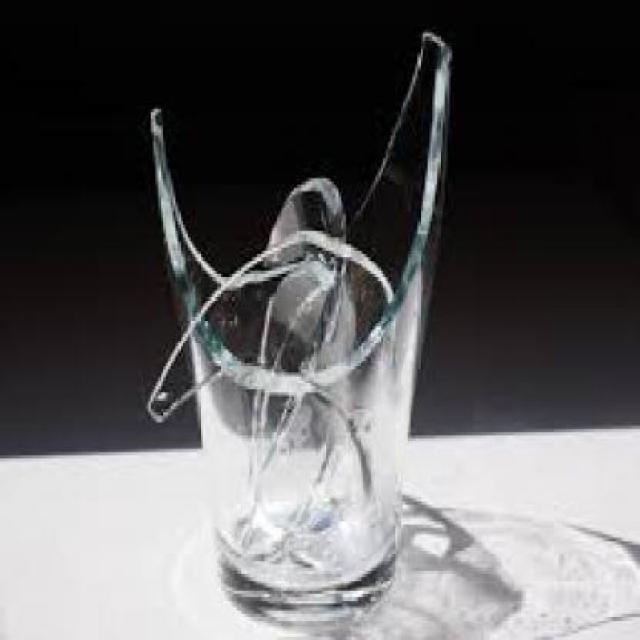kaca: (148, 29, 448, 620), (147, 228, 396, 510), (249, 175, 346, 554)
